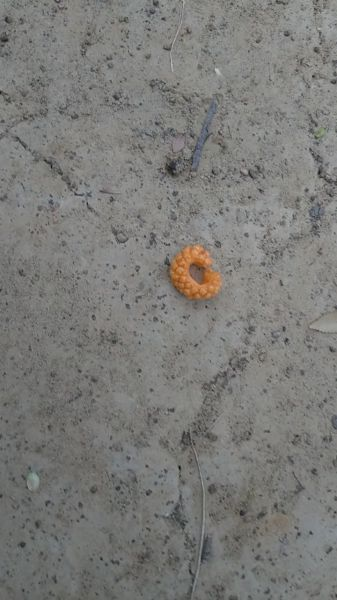eggs: (167, 237, 232, 309)
